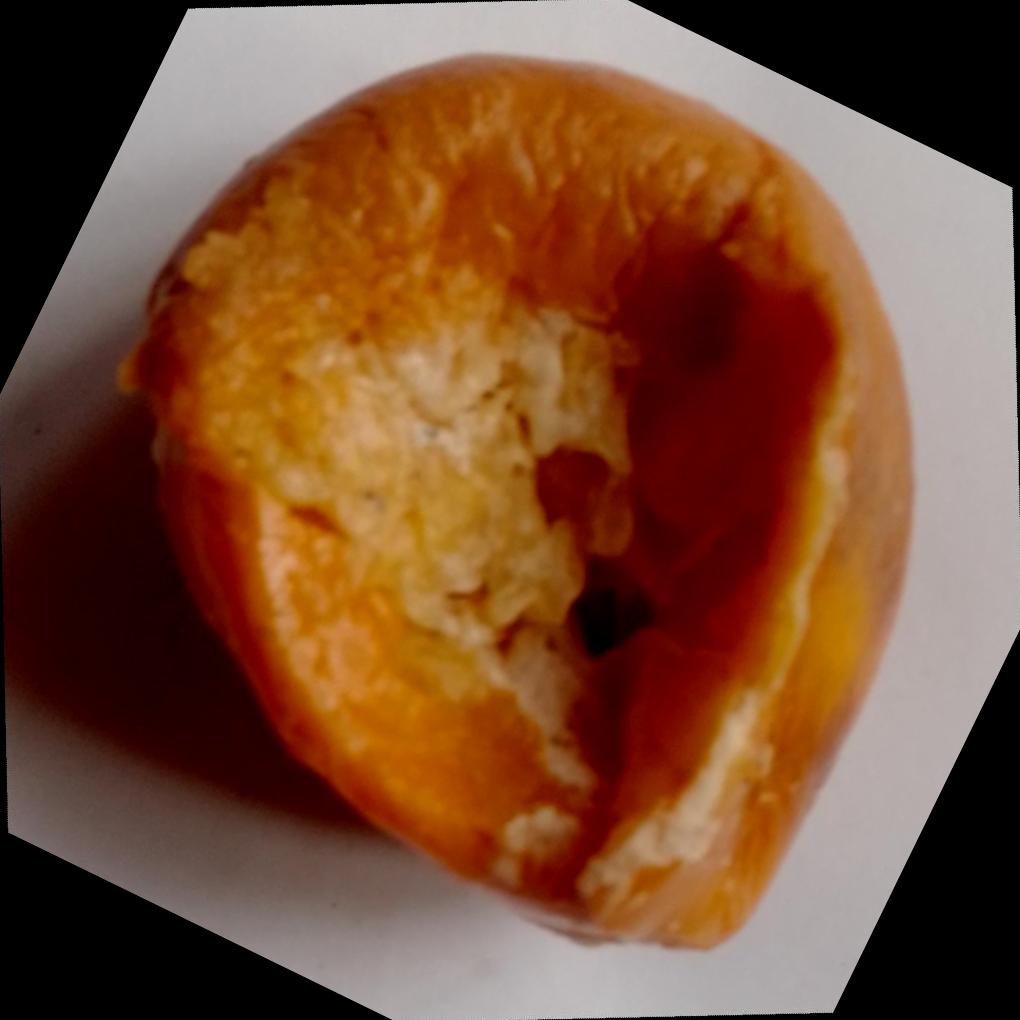FreshOrange: (112, 52, 914, 957)
